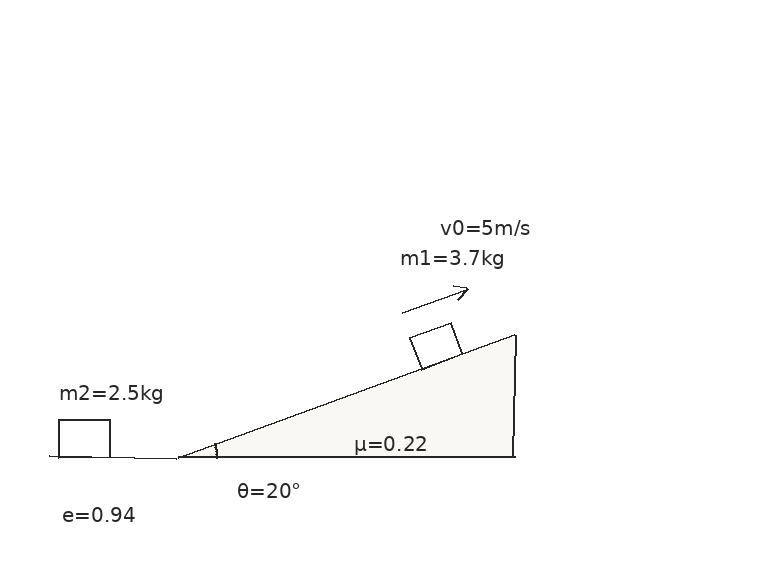block: (408, 321, 464, 370), (56, 418, 112, 459)
ramp: (175, 333, 515, 459)
